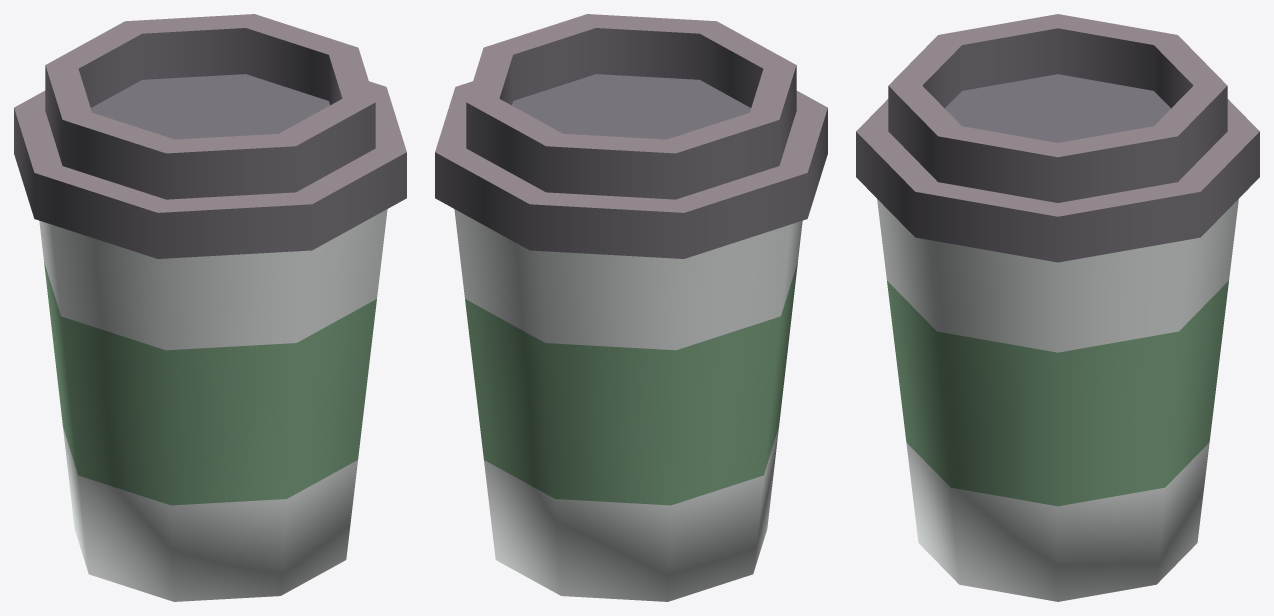
Rendered from Coffee.fbx.
3 renders of one model, left to right at view 1: azimuth 30°, elevation 25°; view 2: azimuth 150°, elevation 25°; view 3: azimuth 270°, elevation 25°, orthographic.
Parts seen in each view (by area): view 1: Coffee; view 2: Coffee; view 3: Coffee.
Boxes of the visible parts, box(x1,y1,x2,y2) form: Coffee: box(14, 14, 406, 601); Coffee: box(435, 14, 827, 601); Coffee: box(856, 14, 1259, 601).
Bounding box in the file's own units: 15.75 × 19.69 × 15.75.
